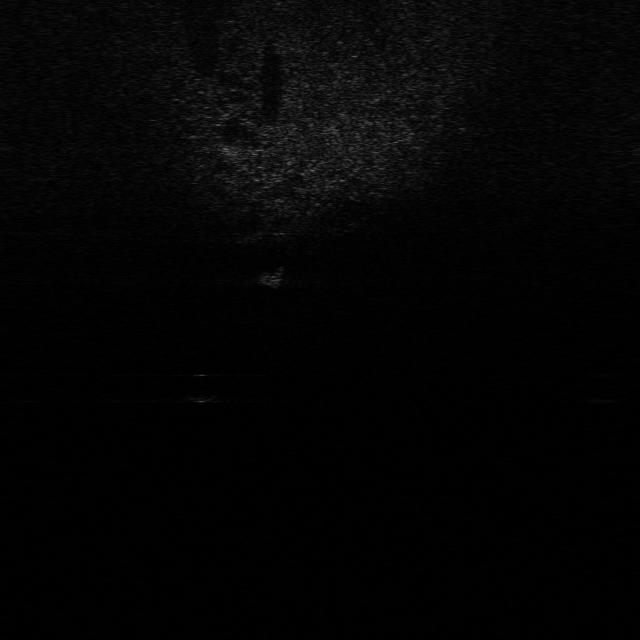ball: (181, 371, 223, 405)
cube: (257, 260, 298, 290)
